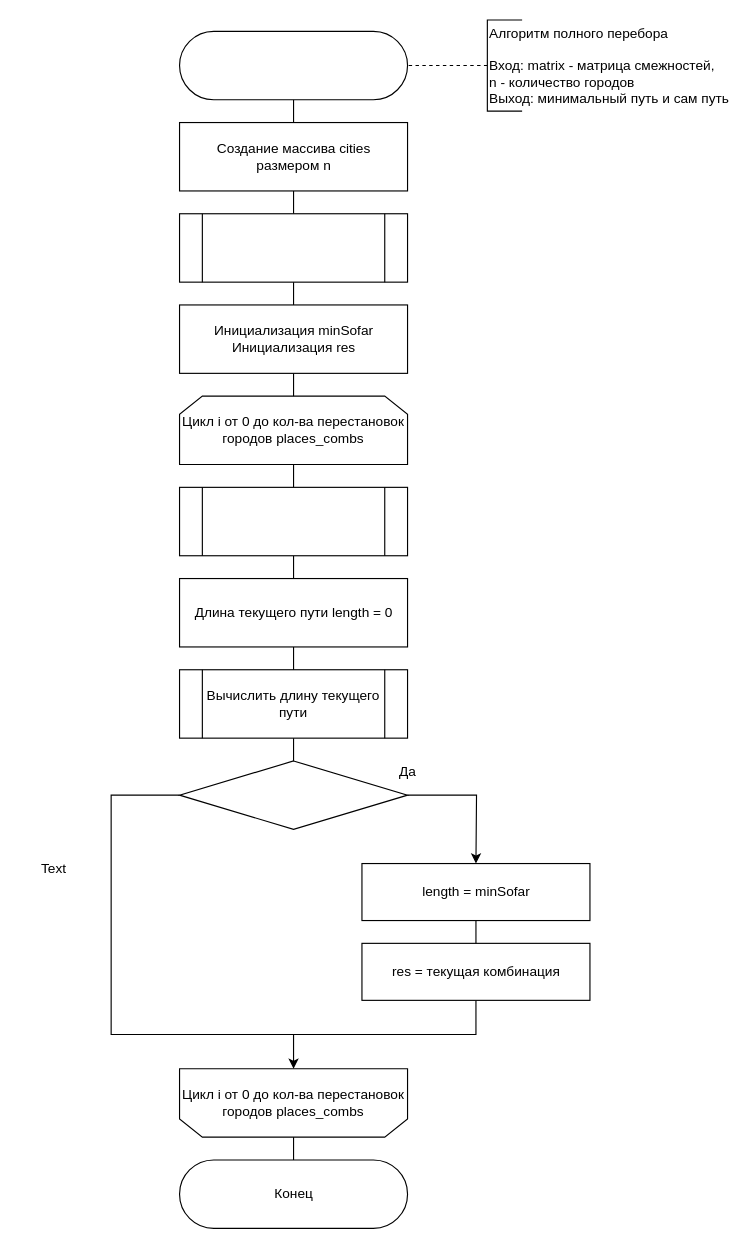
This 748x1248 diagram has some shape labels left out. The shapes that lost their labels are listed below. From the top down, each one's box as (x1, y1, x2, y2) in pixels, then its label:
(178, 30, 408, 100): Начало
(178, 213, 408, 282): Создание массива variants, содержащего комбинации n городов
(178, 486, 408, 556): Добавить в конец текущую комбинацию первый элемент
(178, 760, 408, 829): length < minSofar
